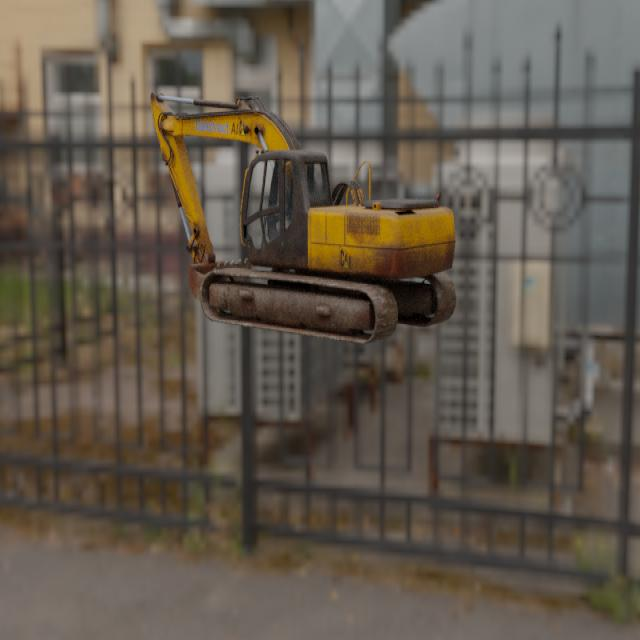excavator: (149, 91, 456, 344)
